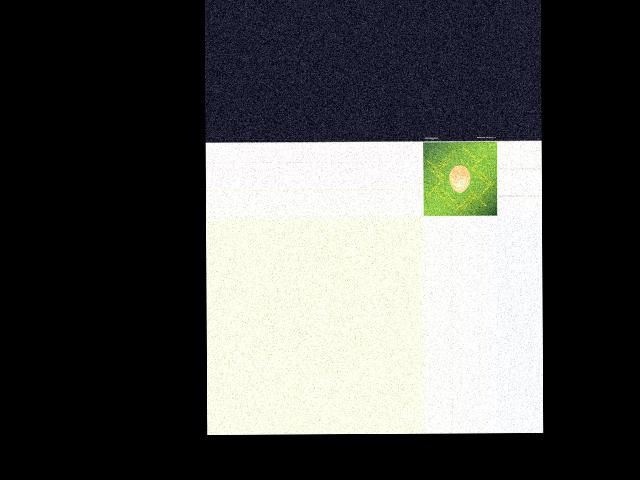egg: (449, 165, 470, 192)
